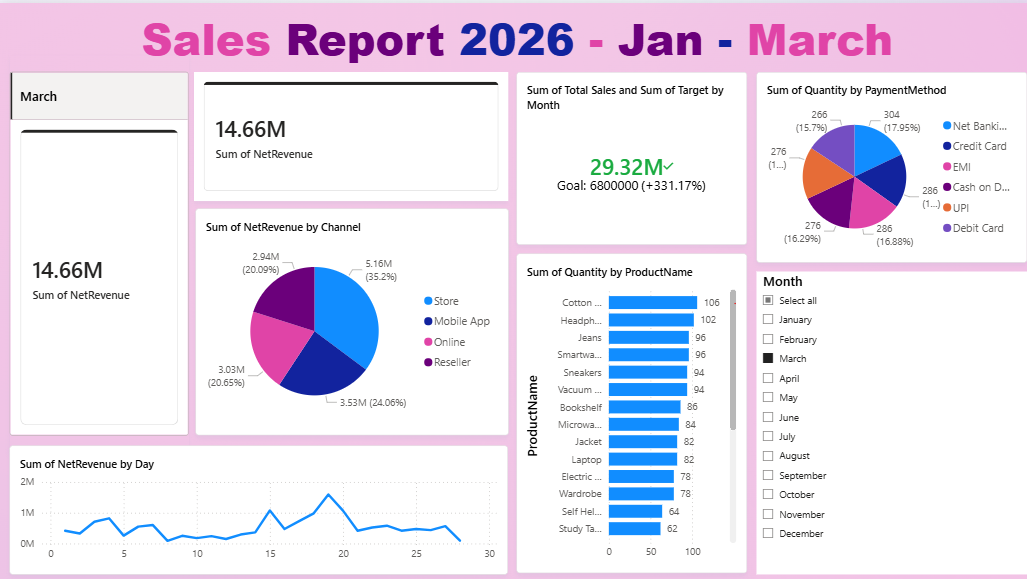

The page's visual inventory and layout, read from the dashboard file:
{"tool":"powerbi","page":{"name":"Page 1","canvas":[1280,720],"ordinal":0},"visuals":[{"type":"textbox","box":[0,0,1279.6,85.2],"z":0},{"type":"cardVisual","fields":{"Data":["Sum(Sales_Jan.NetRevenue)"]},"box":[240.2,84.3,388.1,159.1],"z":1000},{"type":"cardVisual","fields":{"Rows":["Sales_Jan.OrderDate.Variation.Date Hierarchy.Month"],"Data":["Sum(Sales_Jan.NetRevenue)"]},"box":[12.3,64.9,221.1,489.5],"z":2000},{"type":"pieChart","fields":{"Y":["Sum(Sales_Jan.NetRevenue)"],"Category":["Sales_Jan.Channel"]},"box":[241.8,254.5,386.5,279.9],"z":3000},{"type":"lineChart","fields":{"Y":["Sum(Sales_Jan.NetRevenue)"],"Category":["Sales_Jan.OrderDate.Variation.Date Hierarchy.Day"]},"box":[12.7,547.2,615.6,159.1],"z":4000},{"type":"barChart","fields":{"Y":["Sum(Sales_Jan.Quantity)"],"Category":["Sales_Jan.ProductName"]},"box":[639.4,310.2,284.7,394.5],"z":5000},{"type":"pieChart","fields":{"Category":["Sales_Jan.PaymentMethod"],"Y":["Sum(Sales_Jan.Quantity)"]},"box":[935.3,84.3,335.6,235.4],"z":6000},{"type":"slicer","fields":{"Values":["Sales_Jan.OrderDate.Variation.Date Hierarchy.Month"]},"box":[935.3,330.8,338.8,373.8],"z":7000},{"type":"kpi","fields":{"Indicator":["Sum(Sales_Jan.Total Sales)"],"Goal":["Sum(Sales_Jan.Target)"],"TrendLine":["Sales_Jan.OrderDate.Variation.Date Hierarchy.Month"]},"box":[639.4,84.3,284.7,213.1],"z":8000}]}

Visuals, with their boxes in screenshot pixels (x1, y1, x2, y2), scaled from the page's 1280x720 canvas onto the 1027x579 screenshot:
textbox: 0/0/1026/69
cardVisual - Sum(Sales_Jan.NetRevenue): 193/68/504/196
cardVisual - Sales_Jan.OrderDate.Variation.Date Hierarchy.Month x Sum(Sales_Jan.NetRevenue): 10/52/187/446
pieChart - Sum(Sales_Jan.NetRevenue) x Sales_Jan.Channel: 194/205/504/430
lineChart - Sum(Sales_Jan.NetRevenue) x Sales_Jan.OrderDate.Variation.Date Hierarchy.Day: 10/440/504/568
barChart - Sum(Sales_Jan.Quantity) x Sales_Jan.ProductName: 513/249/741/567
pieChart - Sales_Jan.PaymentMethod x Sum(Sales_Jan.Quantity): 750/68/1020/257
slicer - Sales_Jan.OrderDate.Variation.Date Hierarchy.Month: 750/266/1022/567
kpi - Sum(Sales_Jan.Total Sales) x Sum(Sales_Jan.Target): 513/68/741/239
